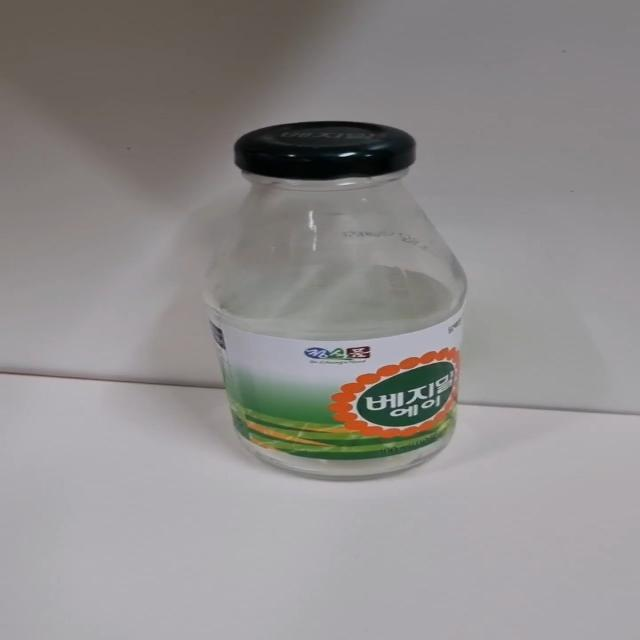Glass: (200, 120, 468, 484)
